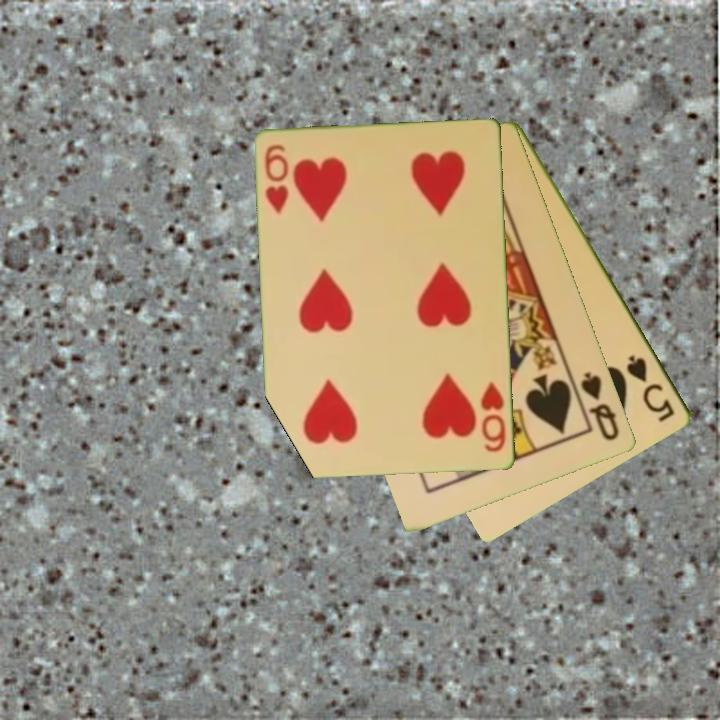5s: (623, 351, 679, 426)
6h: (477, 378, 509, 455), (261, 141, 292, 217)
Qs: (578, 368, 623, 444)
